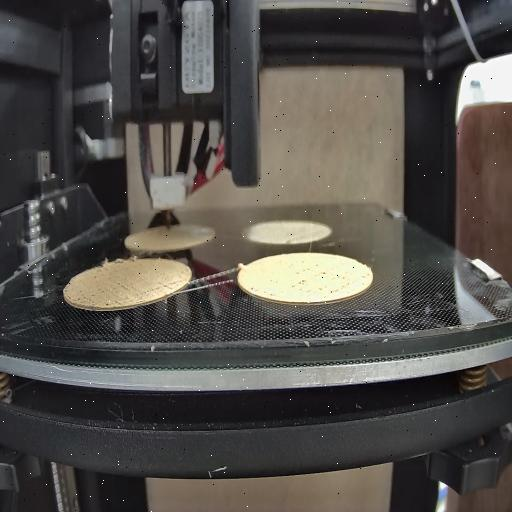under_extrusion: (292, 262, 352, 296), (79, 275, 128, 306), (148, 277, 182, 301), (248, 283, 278, 301)
